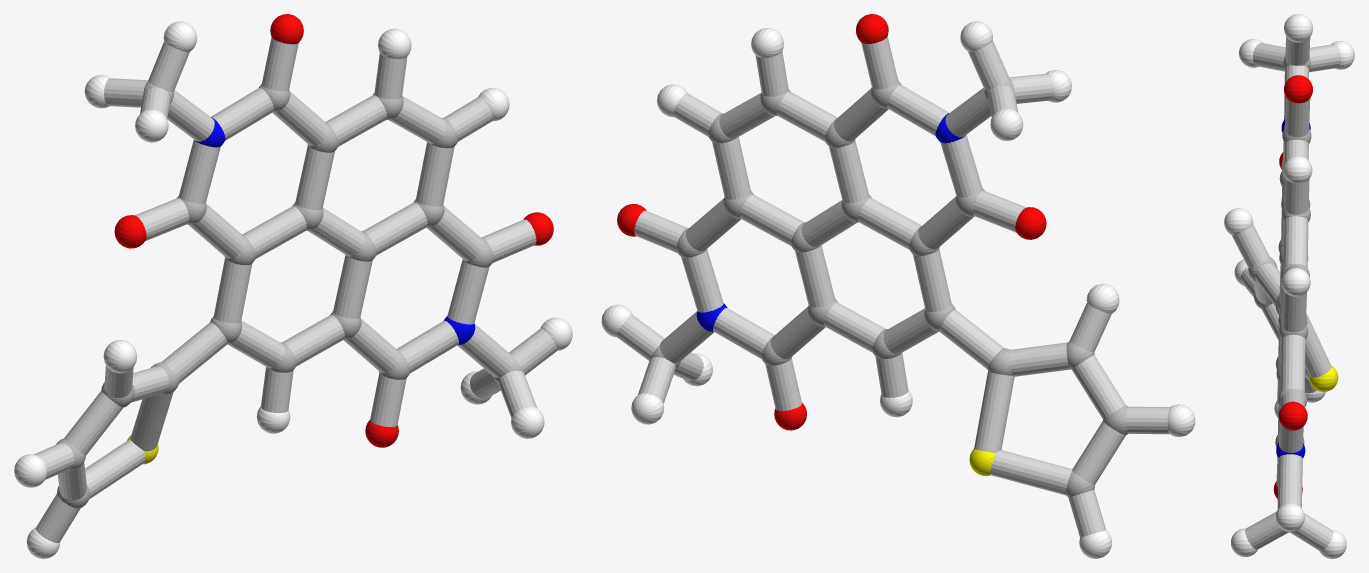
Rendered from Dimethyl_Naphthalene_Dicarboximide_Phi_5_Theta_330_Thiophene.glb.
3 renders of one model, left to right at view 1: azimuth 30°, elevation 25°; view 2: azimuth 150°, elevation 25°; view 3: azimuth 270°, elevation 25°, orthographic. The views are drawn at different scales.
Visible parts, largest first — view 1: grp14119, grp7241, grp1, grp12309, grp11585; view 2: grp14119, grp7241, grp1, grp12309, grp11585; view 3: grp14119, grp7241, grp1, grp12309, grp13757, grp11585.
Part boxes in pixels (x1,y1,x2,y2): grp14119: (34,37,557,542); grp7241: (14,21,572,558); grp1: (56,81,523,508); grp12309: (114,14,553,447); grp11585: (194,117,475,344); grp14119: (616,36,1169,537); grp7241: (601,21,1195,558); grp1: (651,78,1127,497); grp12309: (617,14,1046,430); grp11585: (696,113,965,331); grp14119: (1232,36,1340,550); grp7241: (1224,14,1354,558); grp1: (1248,55,1311,532); grp12309: (1273,75,1312,498); grp13757: (1309,365,1338,391); grp11585: (1276,119,1310,458).
Size of the model in its own units: 11.91 by 10.01 by 2.69.
